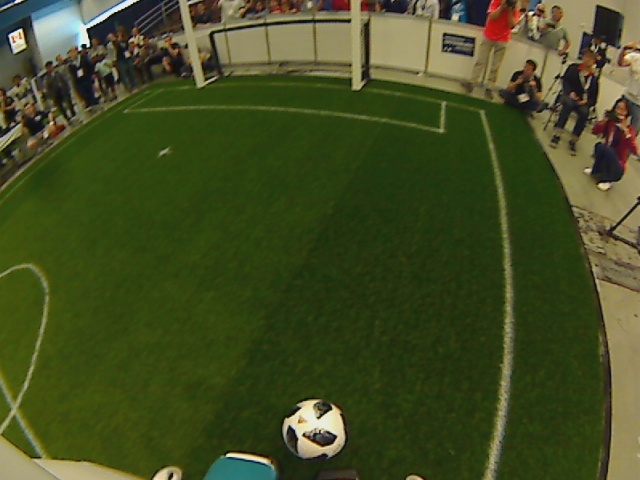ball: (278, 396, 351, 463)
goalpost: (173, 1, 366, 97)
